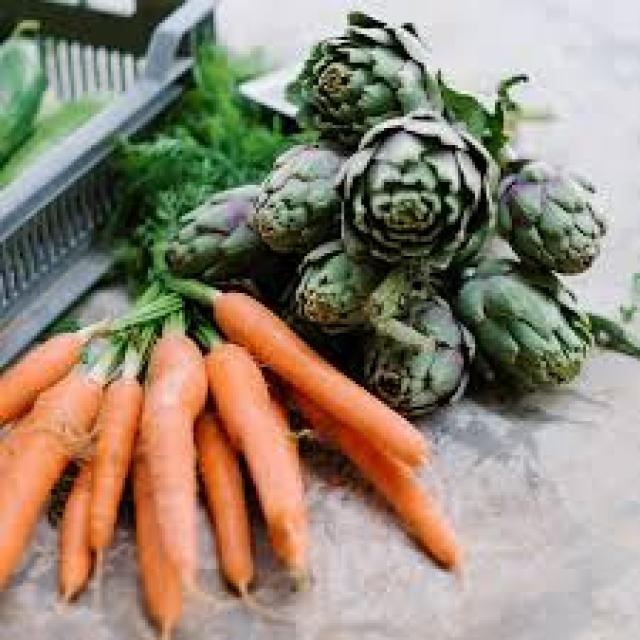Organik: (114, 0, 620, 438), (2, 244, 470, 624)
